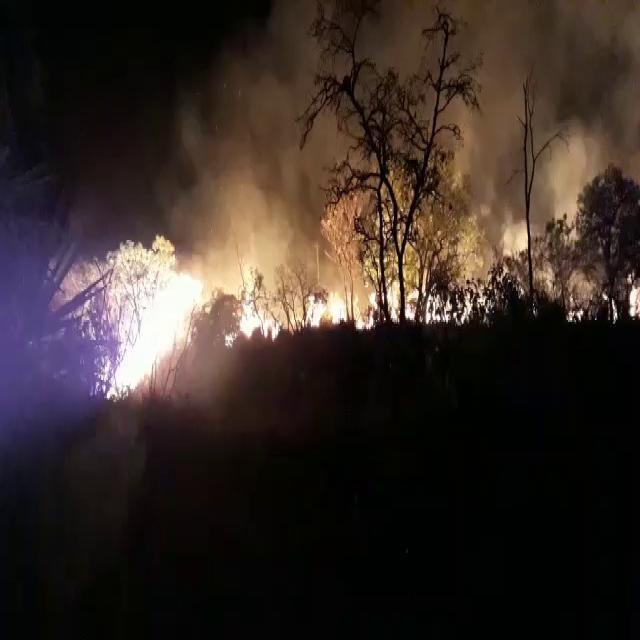Fire: (102, 267, 201, 400), (302, 284, 372, 332), (232, 270, 274, 346), (498, 218, 534, 262)
Smoke: (244, 0, 638, 231), (163, 62, 346, 216), (543, 100, 613, 311)
